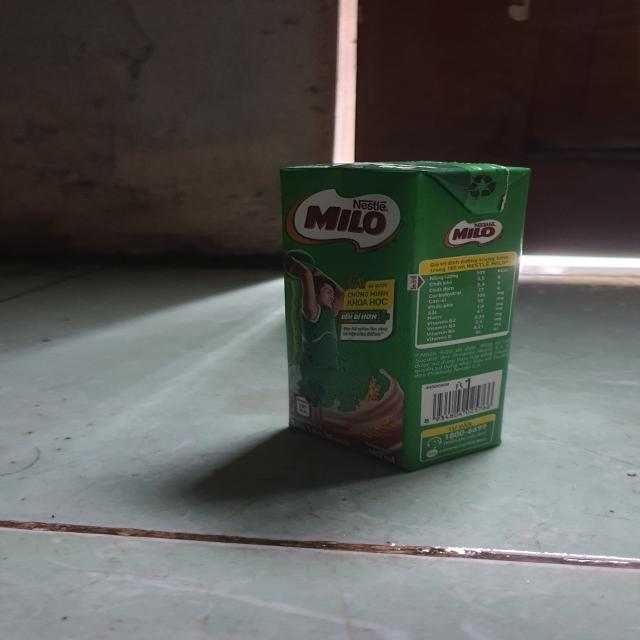Milo: (268, 160, 543, 476)
